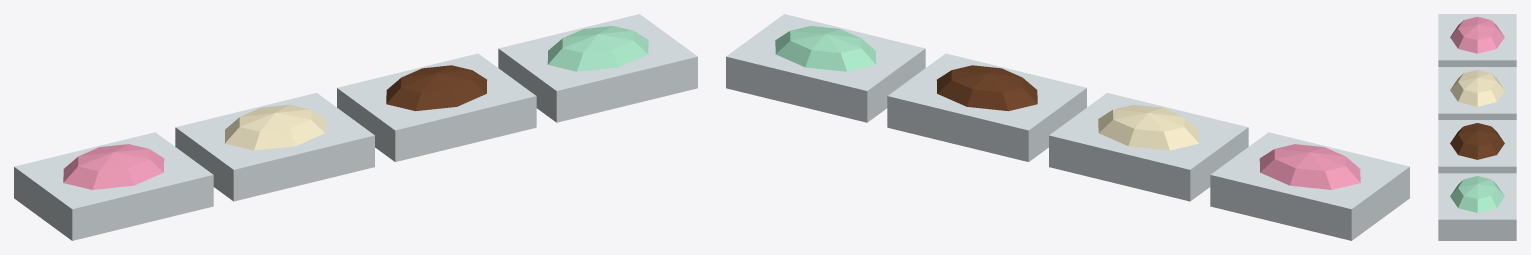
File: market_food_ice_cream.glb
3 renders of one model, left to right at view 1: azimuth 30°, elevation 25°; view 2: azimuth 150°, elevation 25°; view 3: azimuth 270°, elevation 25°, orthographic. The views are drawn at different scales.
Parts seen in each view (by area): view 1: goods_freezer (×4), goods_ice_pink, goods_ice_mint, goods_ice_vanilla, goods_ice_choc; view 2: goods_freezer (×4), goods_ice_pink, goods_ice_mint, goods_ice_vanilla, goods_ice_choc; view 3: goods_freezer (×4), goods_ice_choc, goods_ice_mint, goods_ice_pink, goods_ice_vanilla.
Part boxes in pixels (x1,y1,x2,y2): goods_freezer (×4): [14, 14, 697, 240]; goods_ice_pink: [63, 144, 164, 189]; goods_ice_mint: [547, 26, 648, 71]; goods_ice_vanilla: [224, 104, 325, 150]; goods_ice_choc: [386, 65, 487, 111]; goods_freezer (×4): [726, 14, 1409, 240]; goods_ice_pink: [1259, 144, 1360, 189]; goods_ice_mint: [775, 26, 876, 71]; goods_ice_vanilla: [1098, 104, 1199, 150]; goods_ice_choc: [936, 65, 1037, 111]; goods_freezer (×4): [1438, 14, 1516, 240]; goods_ice_choc: [1450, 123, 1504, 159]; goods_ice_mint: [1450, 176, 1504, 212]; goods_ice_pink: [1450, 16, 1504, 53]; goods_ice_vanilla: [1450, 70, 1504, 106].
Bounding box in the file's own units: 2.48 × 0.19 × 0.4.
